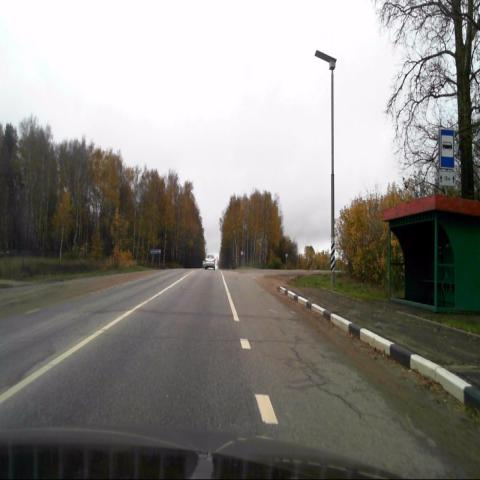8_2_1: (440, 171, 456, 186)
